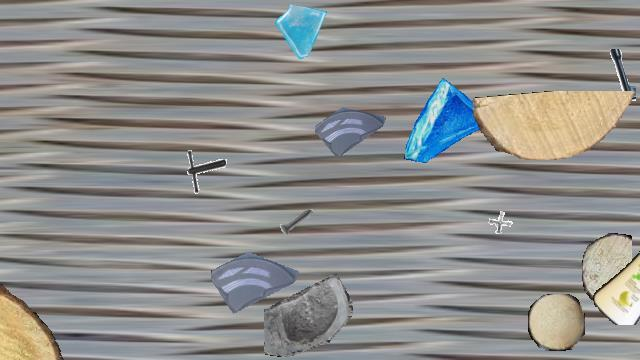glass: (402, 77, 496, 171), (264, 271, 352, 359), (211, 234, 299, 322), (315, 91, 387, 163), (274, 1, 332, 59)
metal: (578, 49, 636, 107), (178, 147, 226, 195), (276, 201, 318, 243), (482, 203, 522, 243)
plastic: (590, 216, 640, 324)
wood: (473, 91, 639, 159), (0, 265, 67, 359), (582, 233, 632, 305), (528, 294, 584, 350)
